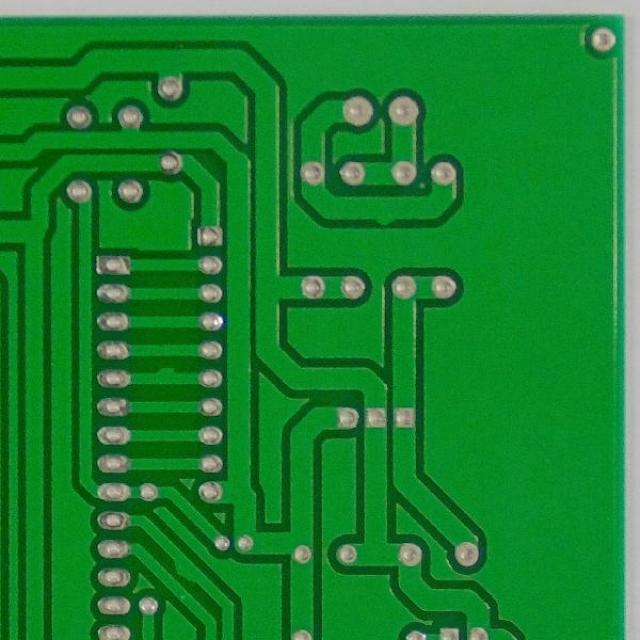spur: (163, 550, 207, 588), (148, 362, 187, 387), (366, 205, 404, 228)
